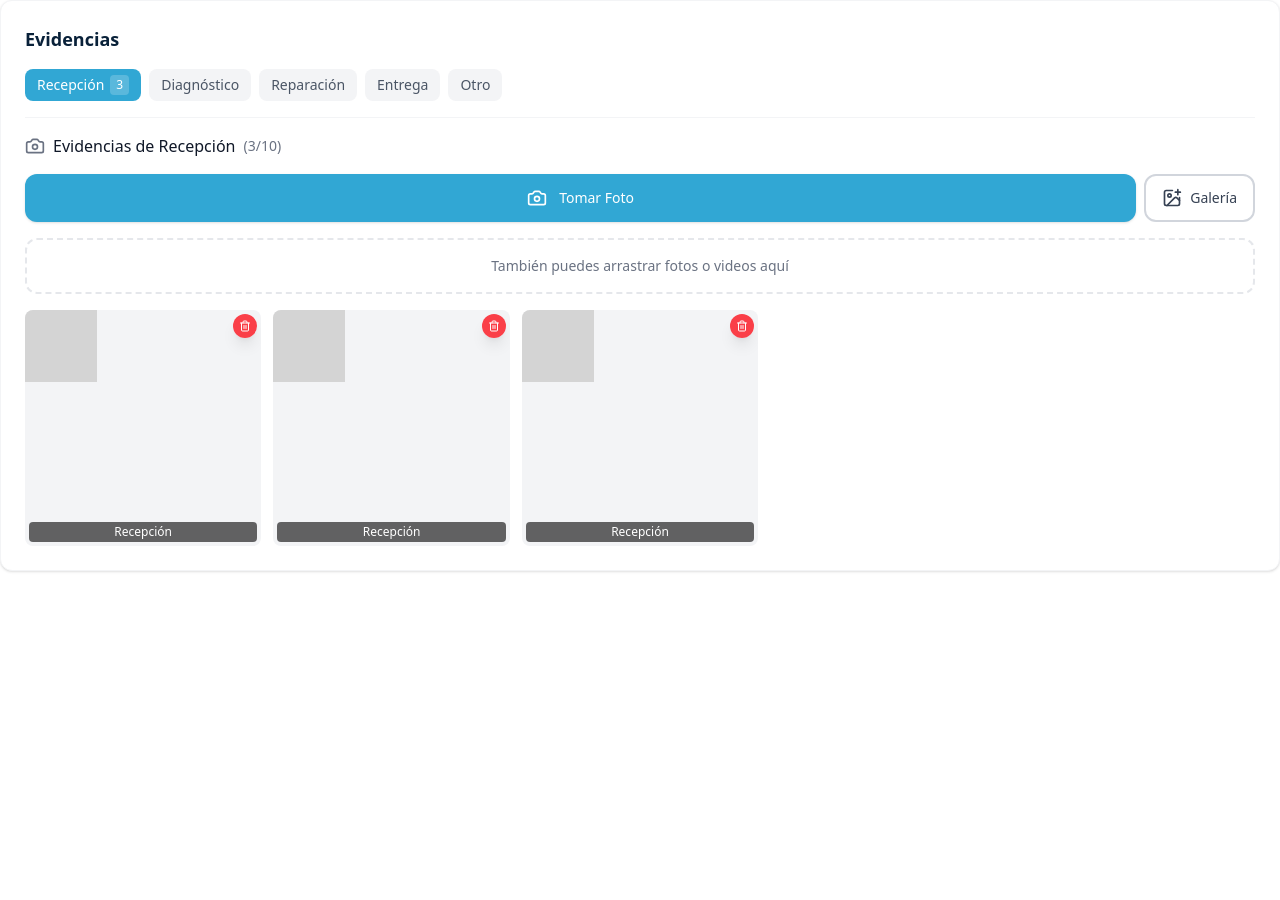
Test: EvidenciasSection — lightbox integration › muestra la imagen correcta al abrir desde segundo thumbnail
// Click on second thumbnail
Click the button with aria-label "Ver foto". click: (392, 428)
box: [273,310,510,546]
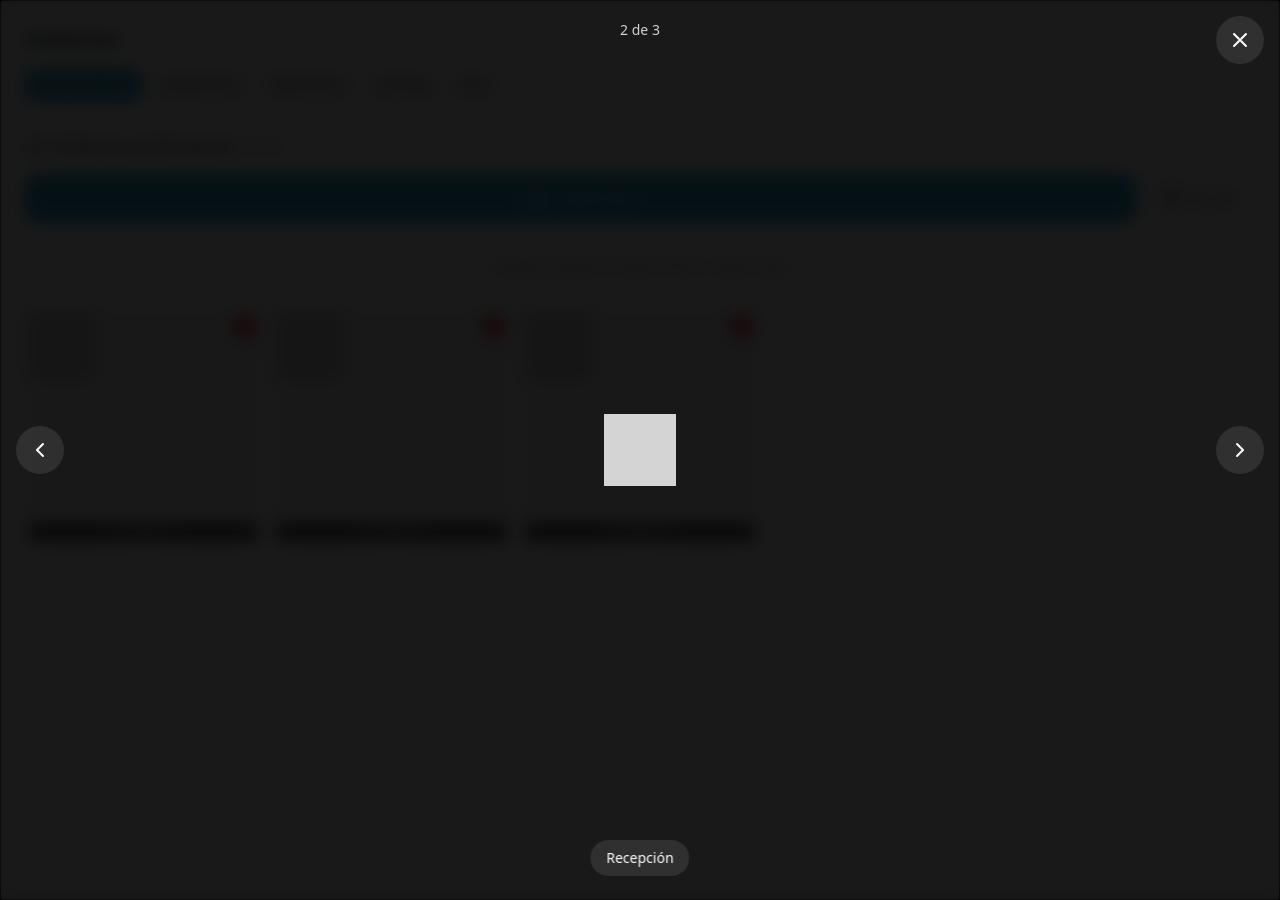
Expected: the text "2 de 3" is shown, [620,20,660,40]
